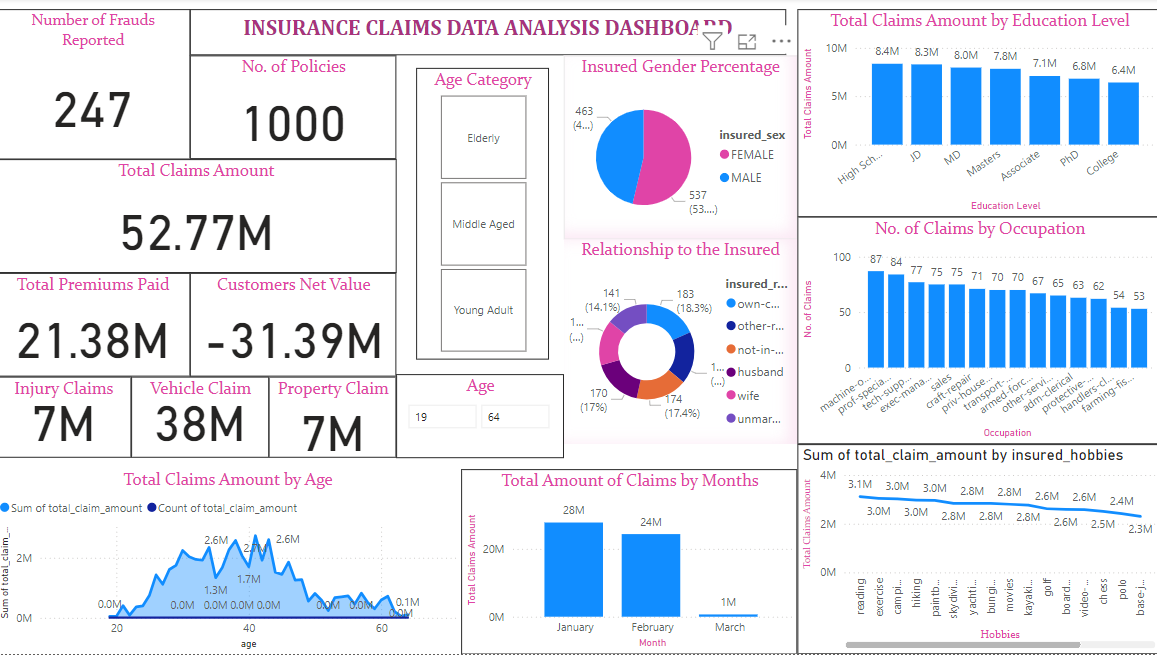

This screenshot's page, from the dashboard's own definition file:
{"tool":"powerbi","page":{"name":"Insurance Dashboard","canvas":[1280,720],"ordinal":0},"visuals":[{"type":"card","title":"Number of Frauds Reported","fields":{"Values":["CountNonNull(cleaned_insurance_claims_raw.fraud_reported)"]},"box":[0,12.3,214.1,164.7],"z":0},{"type":"textbox","box":[214.1,12.3,654.5,50.8],"z":1},{"type":"card","title":"Injury Claims","fields":{"Values":["Sum(cleaned_insurance_claims_raw.injury_claim)"]},"box":[0,415.8,149.6,89.2],"z":2},{"type":"card","title":"No. of  Policies","fields":{"Values":["CountNonNull(cleaned_insurance_claims_raw.total_claim_amount)"]},"box":[214.1,63.1,226.4,113.9],"z":3},{"type":"card","title":"Total Claims Amount","fields":{"Values":["Sum(cleaned_insurance_claims_raw.total_claim_amount)"]},"box":[0,177,440.5,124.9],"z":4},{"type":"card","title":"Total Premiums Paid","fields":{"Values":["Sum(cleaned_insurance_claims_raw.total_premiums_paid)"]},"box":[0,301.9,214.1,113.9],"z":5},{"type":"card","title":"Customers Net Value","fields":{"Values":["Sum(cleaned_insurance_claims_raw.customer_net_value)"]},"box":[214.1,301.9,226.4,113.9],"z":6},{"type":"pieChart","title":"Insured Gender Percentage","fields":{"Category":["cleaned_insurance_claims_raw.insured_sex"],"Y":["CountNonNull(cleaned_insurance_claims_raw.insured_sex)"]},"box":[624.4,63.1,256.6,201.7],"z":7},{"type":"card","title":"Vehicle Claim","fields":{"Values":["Sum(cleaned_insurance_claims_raw.vehicle_claim)"]},"box":[149.6,415.8,150.9,89.2],"z":8},{"type":"donutChart","title":"Relationship to the Insured","fields":{"Category":["cleaned_insurance_claims_raw.insured_relationship"],"Y":["CountNonNull(cleaned_insurance_claims_raw.insured_relationship)"]},"box":[624.4,264.8,256.6,225],"z":9},{"type":"columnChart","title":"Total Claims Amount by Education Level","fields":{"Category":["cleaned_insurance_claims_raw.insured_education_level"],"Y":["Sum(cleaned_insurance_claims_raw.total_claim_amount)"]},"box":[881,12.3,399.3,227.8],"z":10},{"type":"columnChart","title":"No. of Claims by Occupation","fields":{"Y":["Count(cleaned_insurance_claims_raw.total_claim_amount)"],"Category":["cleaned_insurance_claims_raw.insured_occupation"]},"box":[881,240.1,399.3,249.7],"z":11},{"type":"card","title":"Property Claim","fields":{"Values":["Sum(cleaned_insurance_claims_raw.property_claim)"]},"box":[300.5,415.8,140,89.2],"z":12},{"type":"areaChart","title":"Total Claims Amount by Age","fields":{"Category":["cleaned_insurance_claims_raw.age"],"Y":["Sum(cleaned_insurance_claims_raw.total_claim_amount)1","CountNonNull(cleaned_insurance_claims_raw.total_claim_amount)"]},"box":[0,517.3,511.8,203.1],"z":13},{"type":"lineChart","fields":{"Category":["cleaned_insurance_claims_raw.insured_hobbies"],"Y":["Sum(cleaned_insurance_claims_raw.total_claim_amount)"]},"box":[881,489.9,399.3,230.5],"z":14},{"type":"slicer","title":" Age","fields":{"Values":["cleaned_insurance_claims_raw.age"]},"box":[440.5,413,183.9,91.9],"z":15},{"type":"slicer","title":"Age Category","fields":{"Values":["cleaned_insurance_claims_raw.Age_Category"]},"box":[462.4,76.8,145.5,319.7],"z":16},{"type":"columnChart","title":"Total Amount of Claims by Months","fields":{"Y":["Sum(cleaned_insurance_claims_raw.total_claim_amount)"],"Category":["cleaned_insurance_claims_raw.incident_date.Variation.Date Hierarchy.Month"]},"box":[511.8,517.3,369.1,203.1],"z":17}]}

Visuals, with their boxes in screenshot pixels (x1, y1, x2, y2), scaled from the page's 1280x720 canvas onto the 1157x655 screenshot:
"Number of Frauds Reported" card: {"x1": 0, "y1": 11, "x2": 194, "y2": 161}
textbox: {"x1": 194, "y1": 11, "x2": 785, "y2": 57}
"Injury Claims" card: {"x1": 0, "y1": 378, "x2": 135, "y2": 459}
"No. of  Policies" card: {"x1": 194, "y1": 57, "x2": 398, "y2": 161}
"Total Claims Amount" card: {"x1": 0, "y1": 161, "x2": 398, "y2": 275}
"Total Premiums Paid" card: {"x1": 0, "y1": 275, "x2": 194, "y2": 378}
"Customers Net Value" card: {"x1": 194, "y1": 275, "x2": 398, "y2": 378}
"Insured Gender Percentage" pieChart: {"x1": 564, "y1": 57, "x2": 796, "y2": 241}
"Vehicle Claim" card: {"x1": 135, "y1": 378, "x2": 272, "y2": 459}
"Relationship to the Insured" donutChart: {"x1": 564, "y1": 241, "x2": 796, "y2": 446}
"Total Claims Amount by Education Level" columnChart: {"x1": 796, "y1": 11, "x2": 1156, "y2": 218}
"No. of Claims by Occupation" columnChart: {"x1": 796, "y1": 218, "x2": 1156, "y2": 446}
"Property Claim" card: {"x1": 272, "y1": 378, "x2": 398, "y2": 459}
"Total Claims Amount by Age" areaChart: {"x1": 0, "y1": 471, "x2": 463, "y2": 654}
lineChart - cleaned_insurance_claims_raw.insured_hobbies x Sum(cleaned_insurance_claims_raw.total_claim_amount): {"x1": 796, "y1": 446, "x2": 1156, "y2": 654}
" Age" slicer: {"x1": 398, "y1": 376, "x2": 564, "y2": 459}
"Age Category" slicer: {"x1": 418, "y1": 70, "x2": 549, "y2": 361}
"Total Amount of Claims by Months" columnChart: {"x1": 463, "y1": 471, "x2": 796, "y2": 654}
